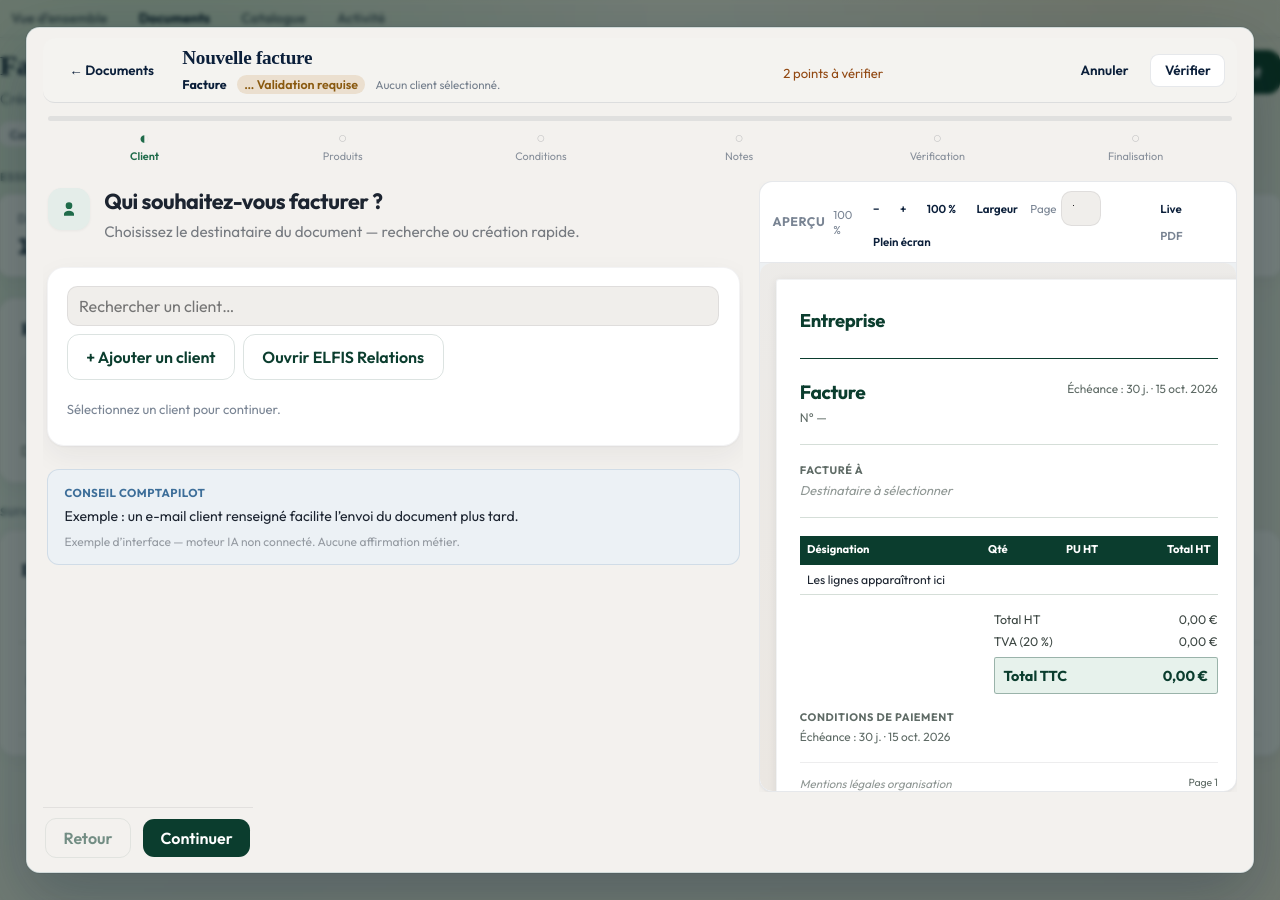
Test: CL11–CL20 Composer integration › CL16 — ajout + toast
Click the button "+ Ajouter un client": (151, 357) [67,334,235,380]
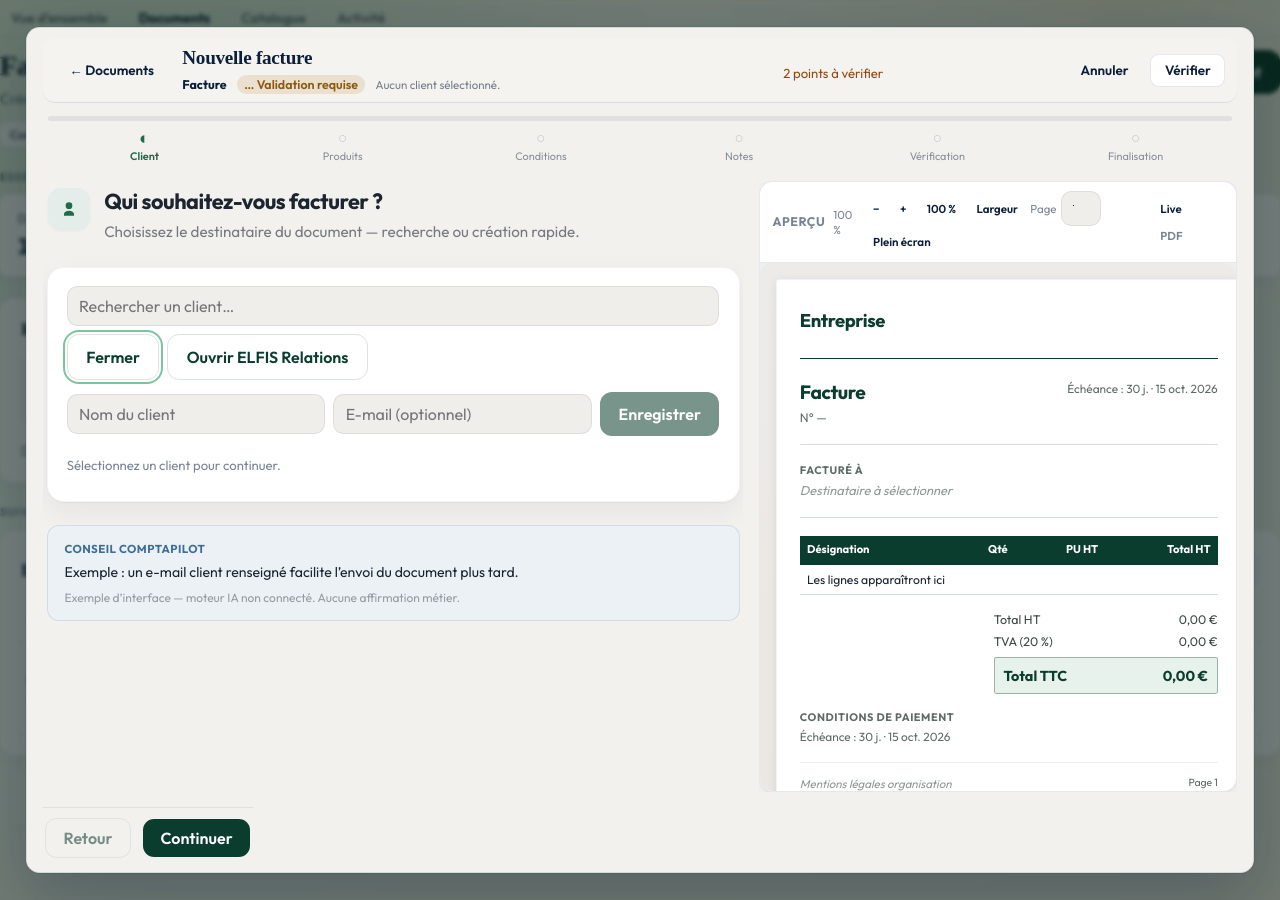
In the field named "Nom du nouveau client": (196, 414) [67,394,326,434], type "Dupont SAS"
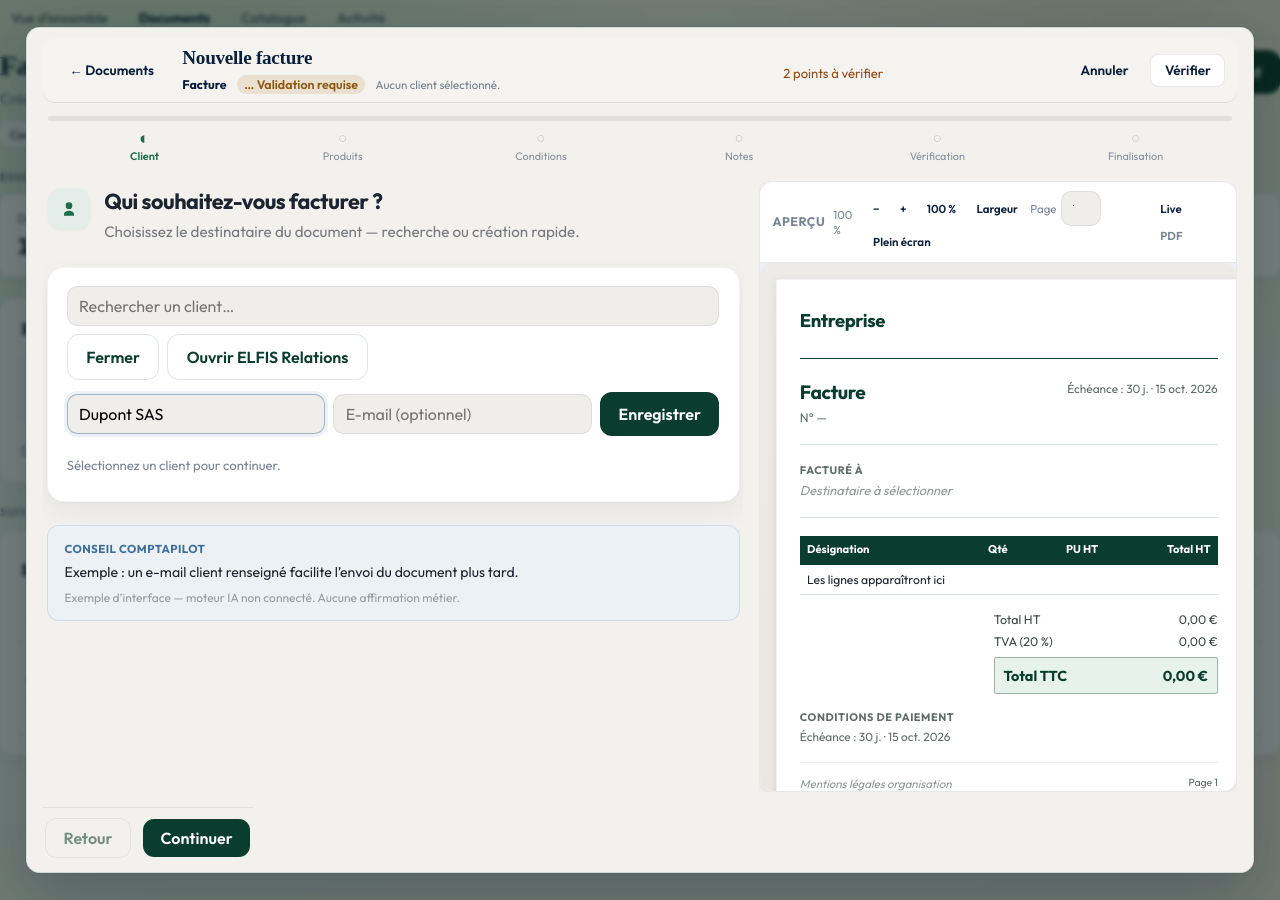
Click the button "Enregistrer": (660, 414) [600,392,719,436]
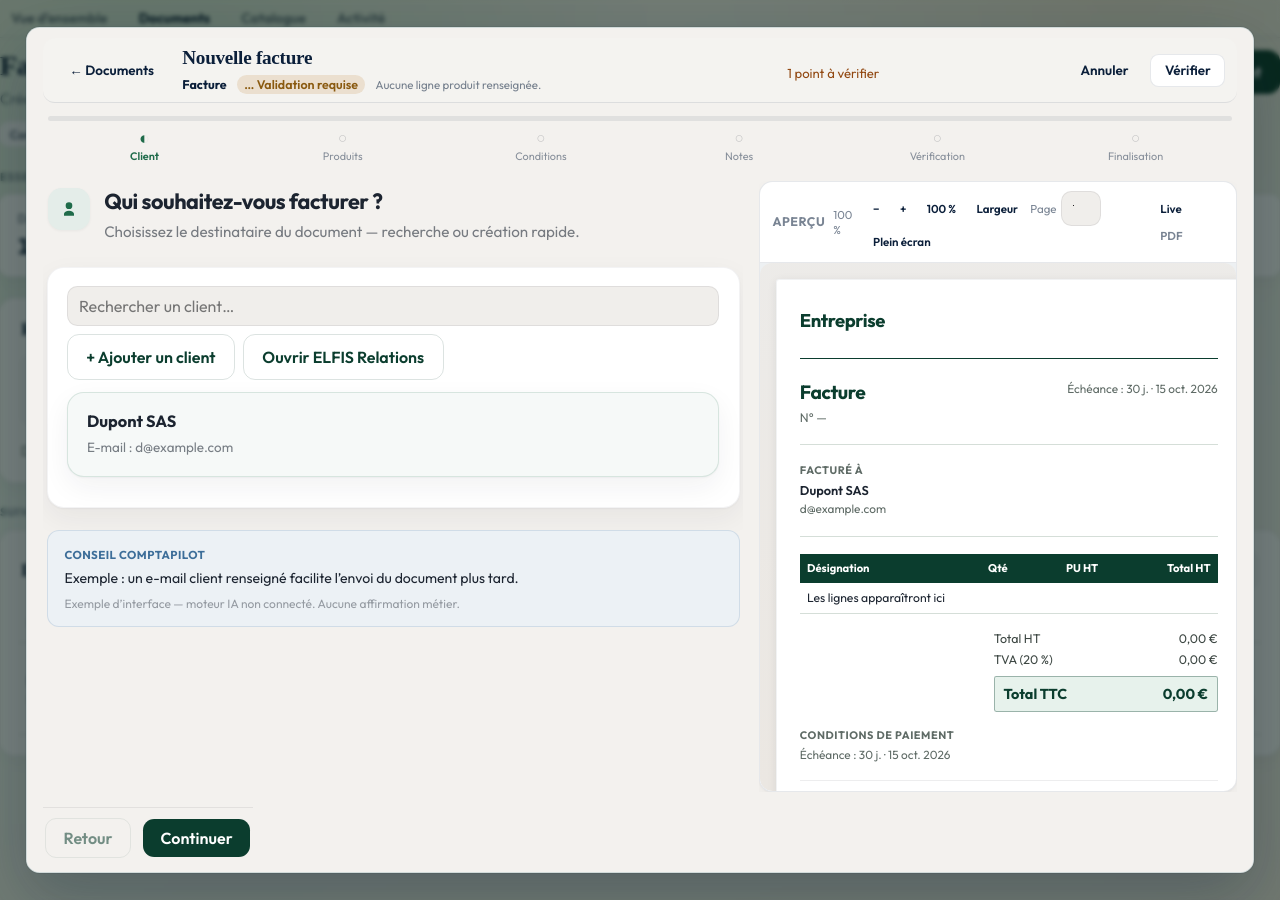
Click the button "Continuer": (197, 838) [143,819,250,857]
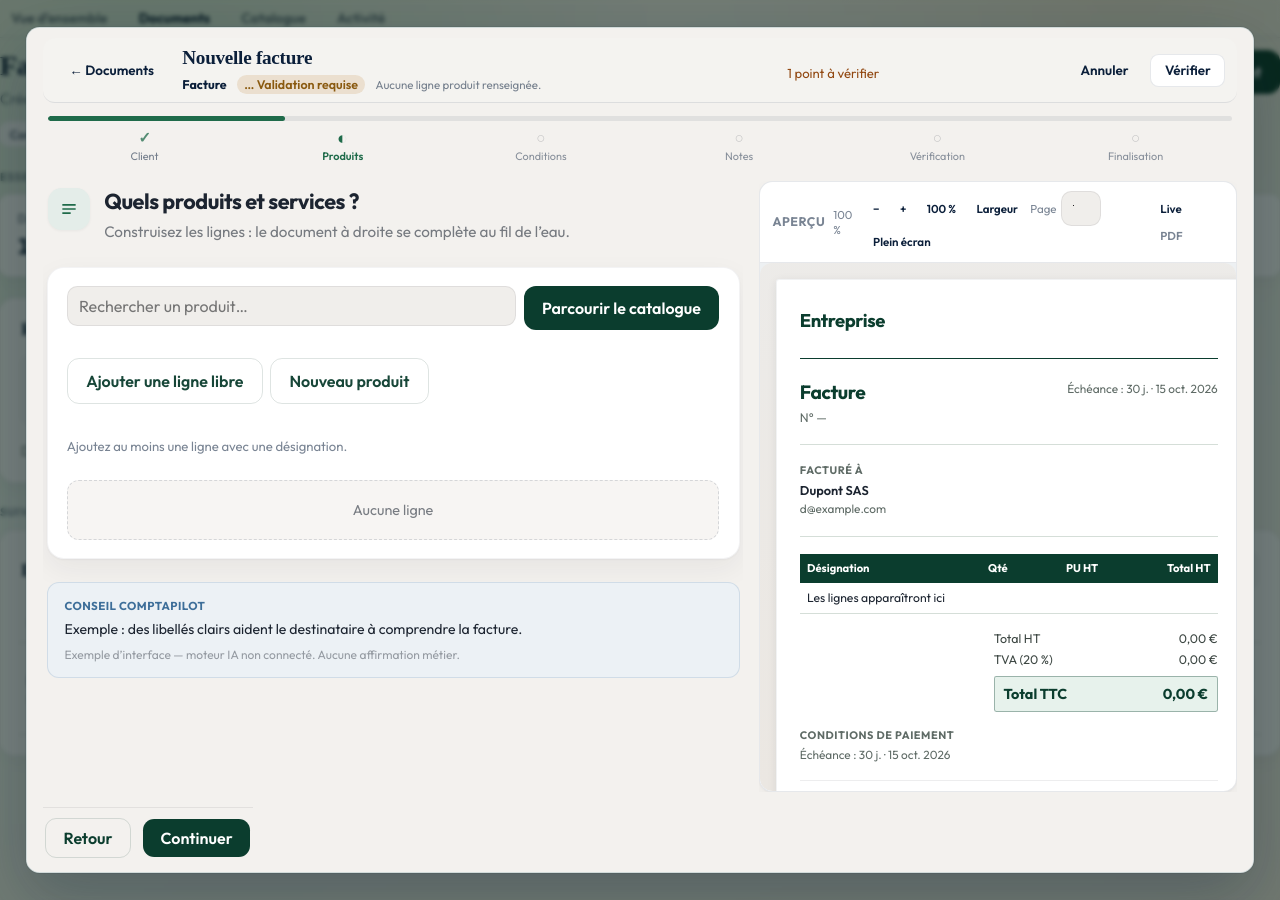
Expected: the heading "Quels produits et services ?" is shown, [104,187,359,215]
Click the button "Parcourir le catalogue": (621, 308) [524,286,719,330]
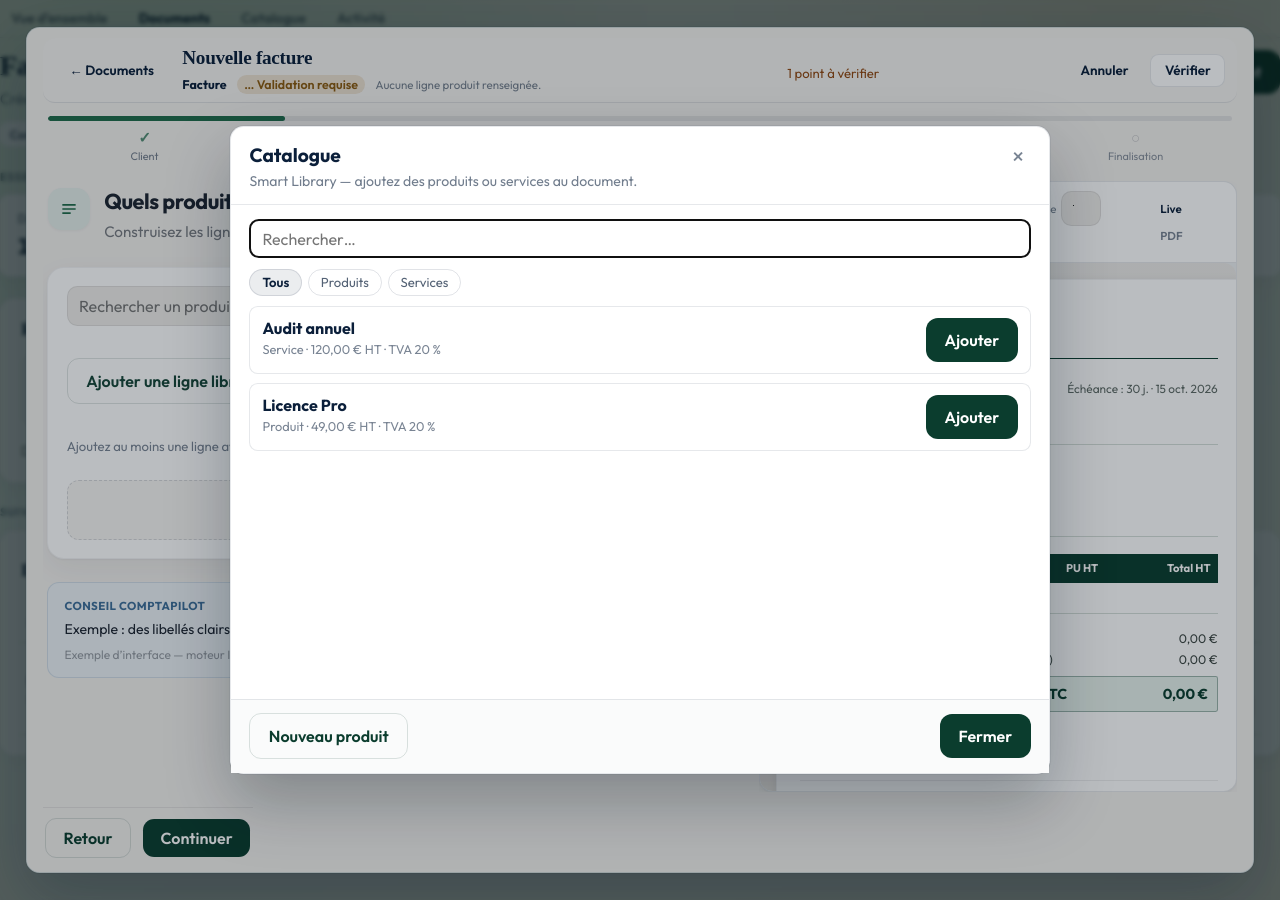
Expected: the text "Audit annuel" is shown, [262,318,355,338]
Click the button with aria-label "Ajouter Audit annuel": (972, 340) [926,318,1018,362]
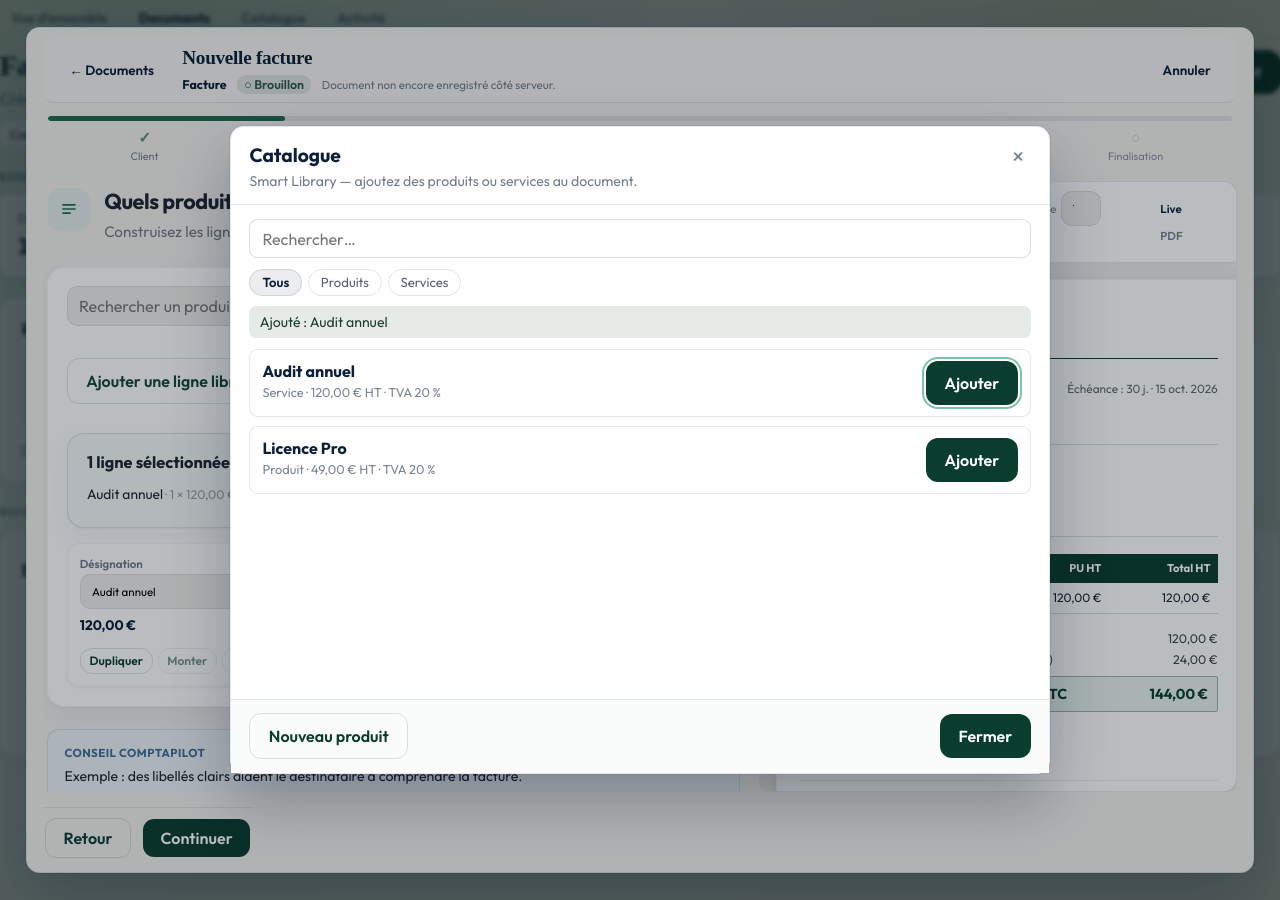
Expected: the text "Ajouté : Audit annuel" is shown, [249,306,1031,338]
